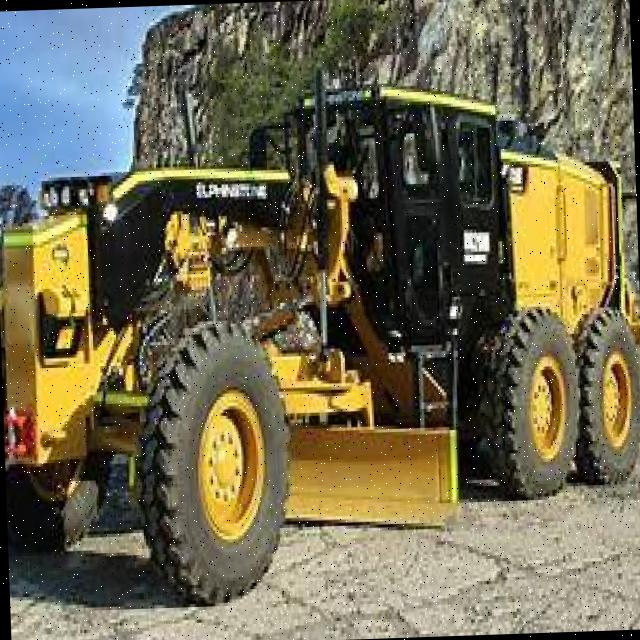Grader: (0, 40, 640, 610)
